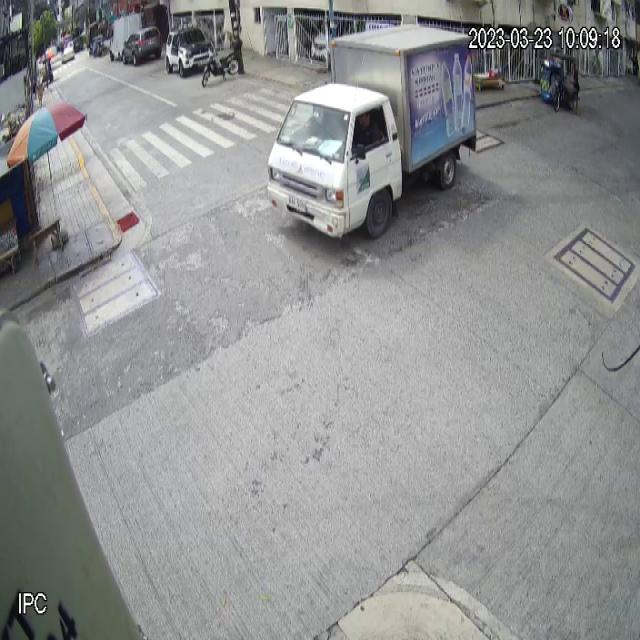Motorcycle: (201, 48, 240, 88)
Truck: (268, 22, 479, 242)
